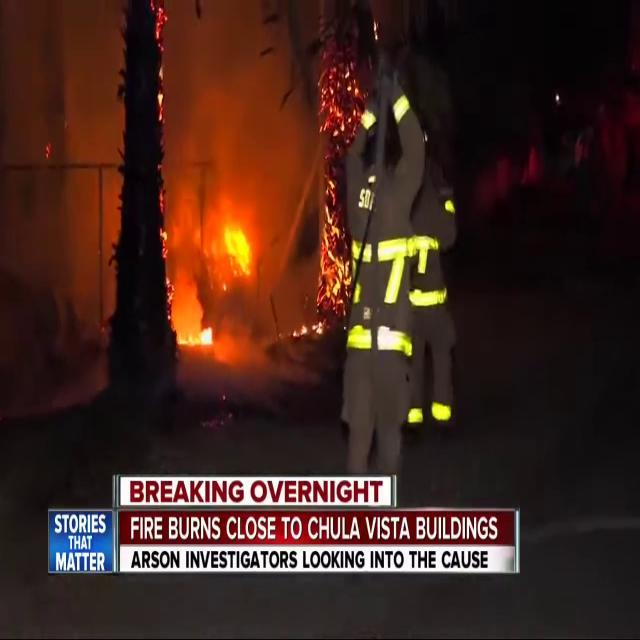Fire: (170, 185, 258, 356)
Smoke: (0, 0, 130, 382), (159, 1, 313, 262)
